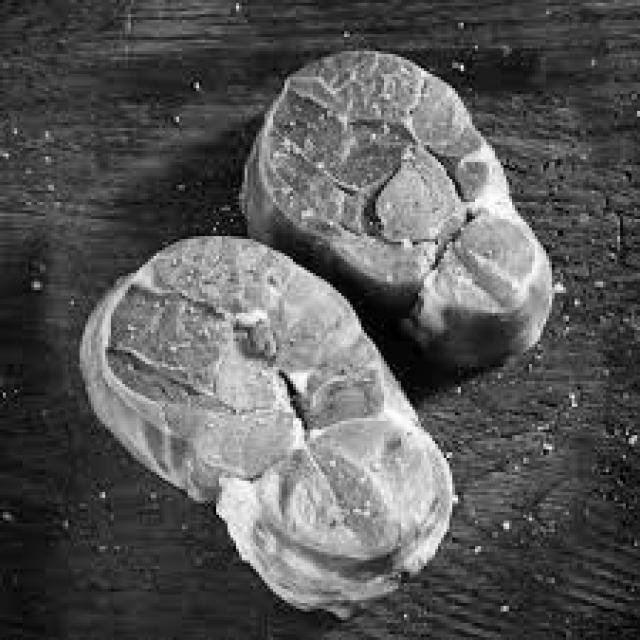chan gio: (68, 233, 455, 609), (239, 49, 552, 358)
